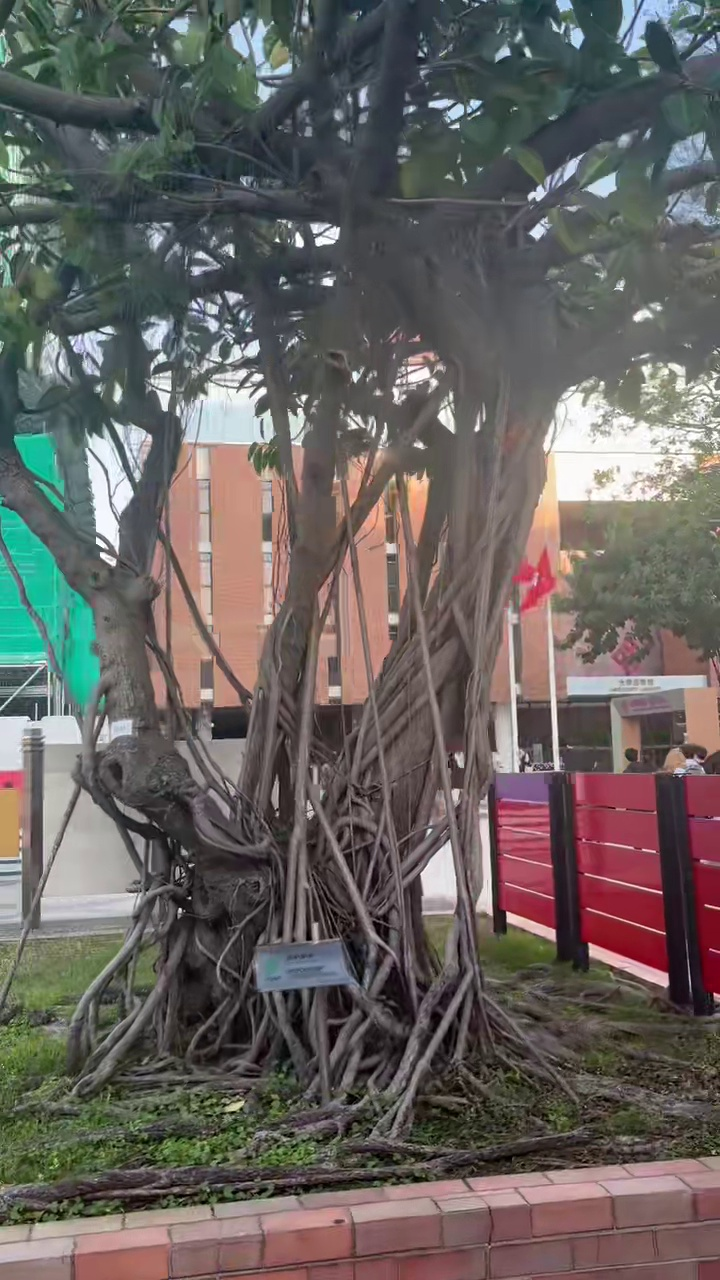Ficus elastica: (0, 0, 719, 1138)
